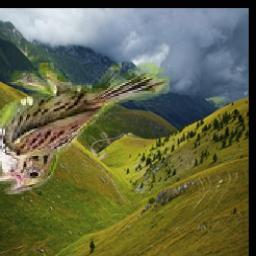Sparrow: (0, 63, 170, 194)
